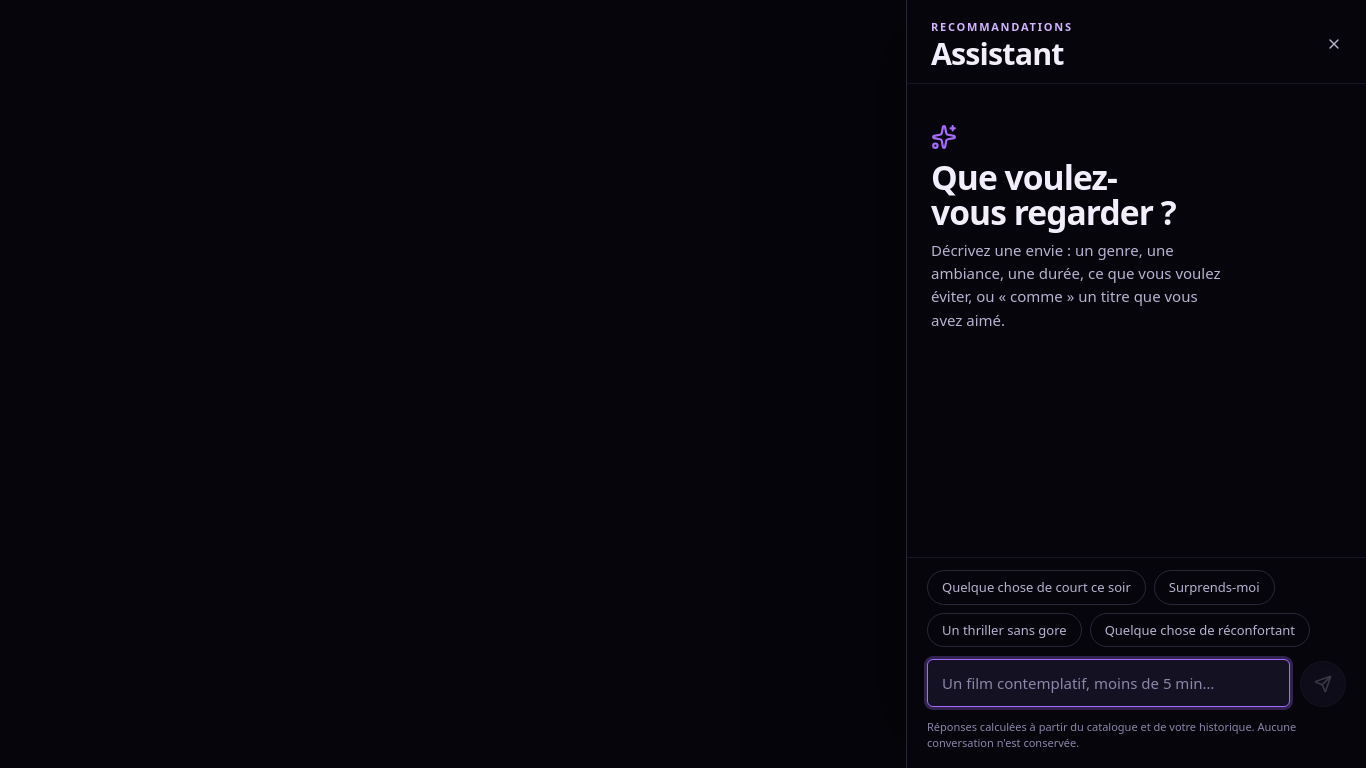
it: AssistantPanel › envoie la demande avec le profil et la langue, puis affiche les cartes avec leur raison
The width and height of the screenshot is (1366, 768).
Type "un thriller court" into the text box named "Votre message à l'assistant" at coordinates (1108, 683), box [927,659,1290,707]
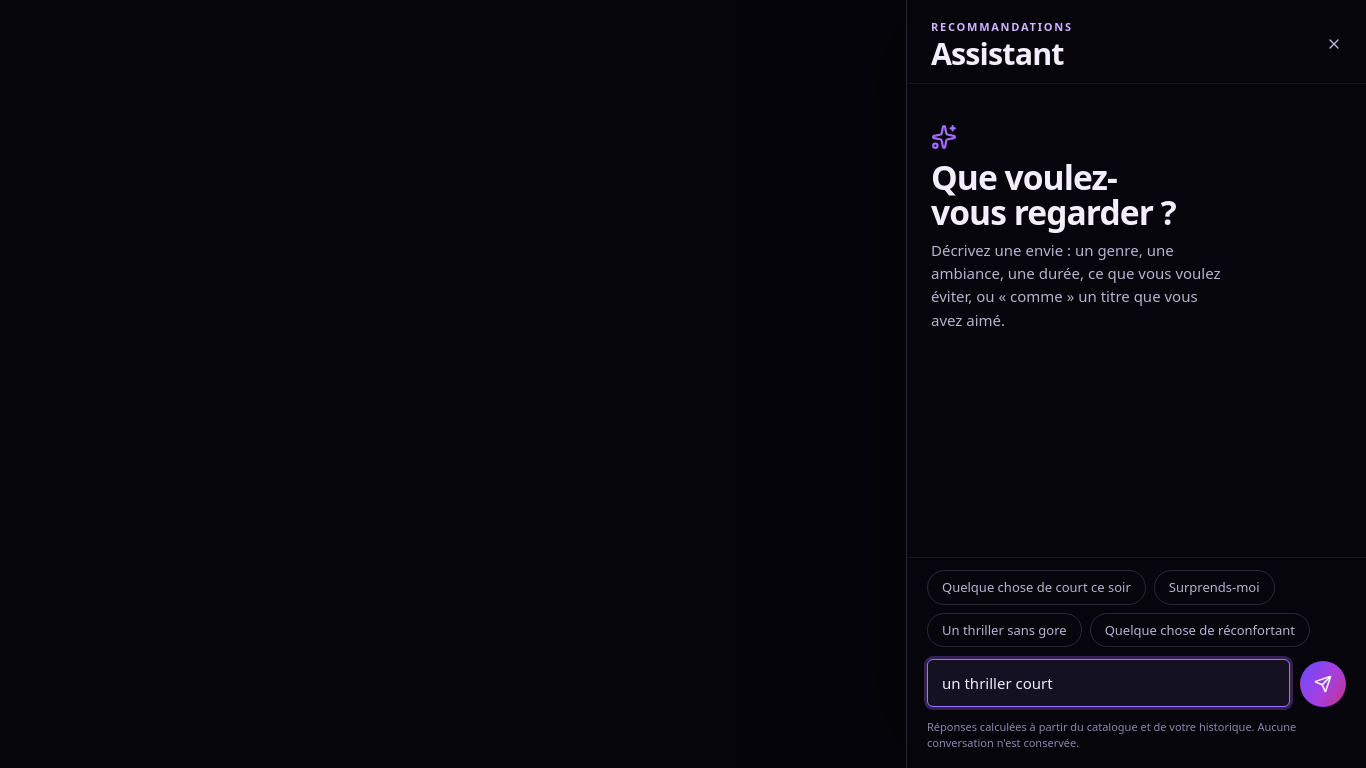
Click the button named "Envoyer" at coordinates (1323, 684), box [1300,661,1346,707]
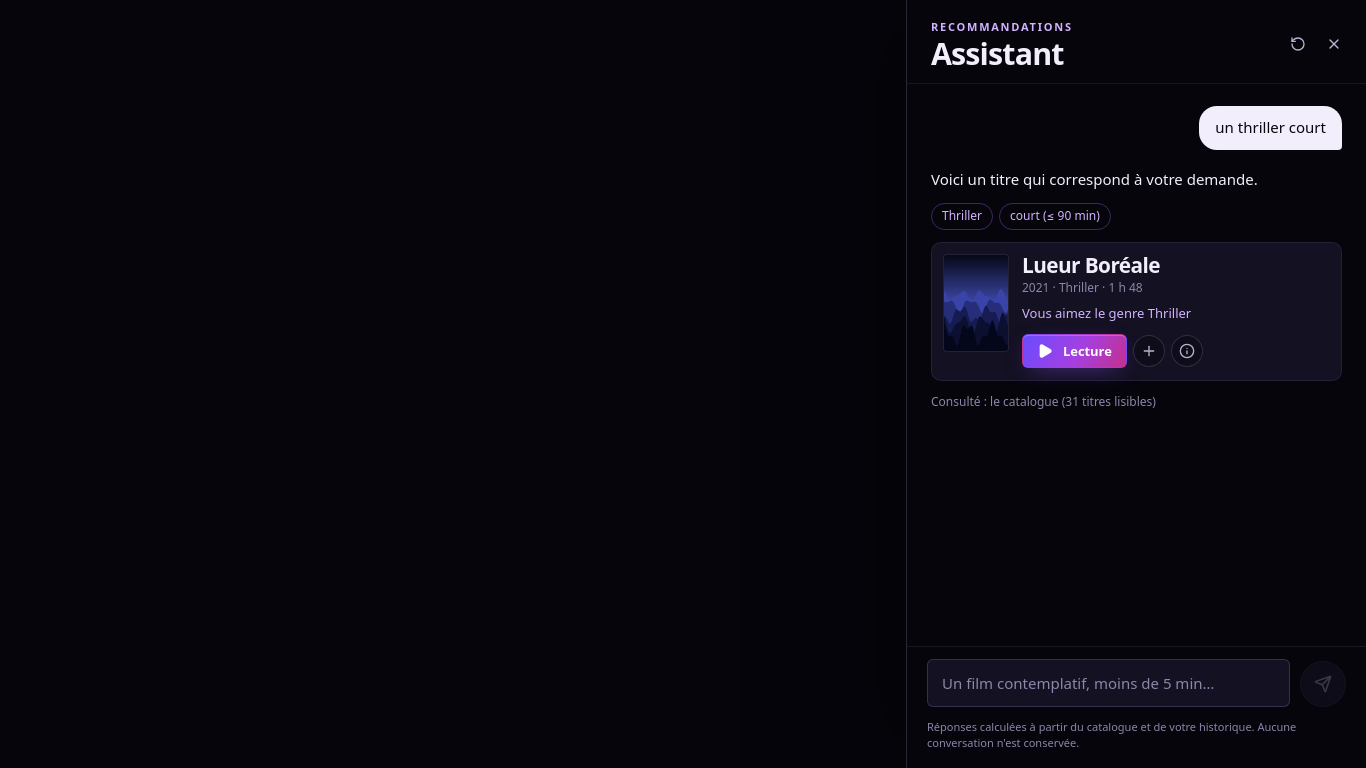
Check: the text "Voici un titre qui correspond à votre demande." is shown 2 times
Check: the text "Lueur Boréale" is shown, box [1022,250,1160,278]
Check: the text "Vous aimez le genre Thriller" is shown, box [1022,304,1191,322]
